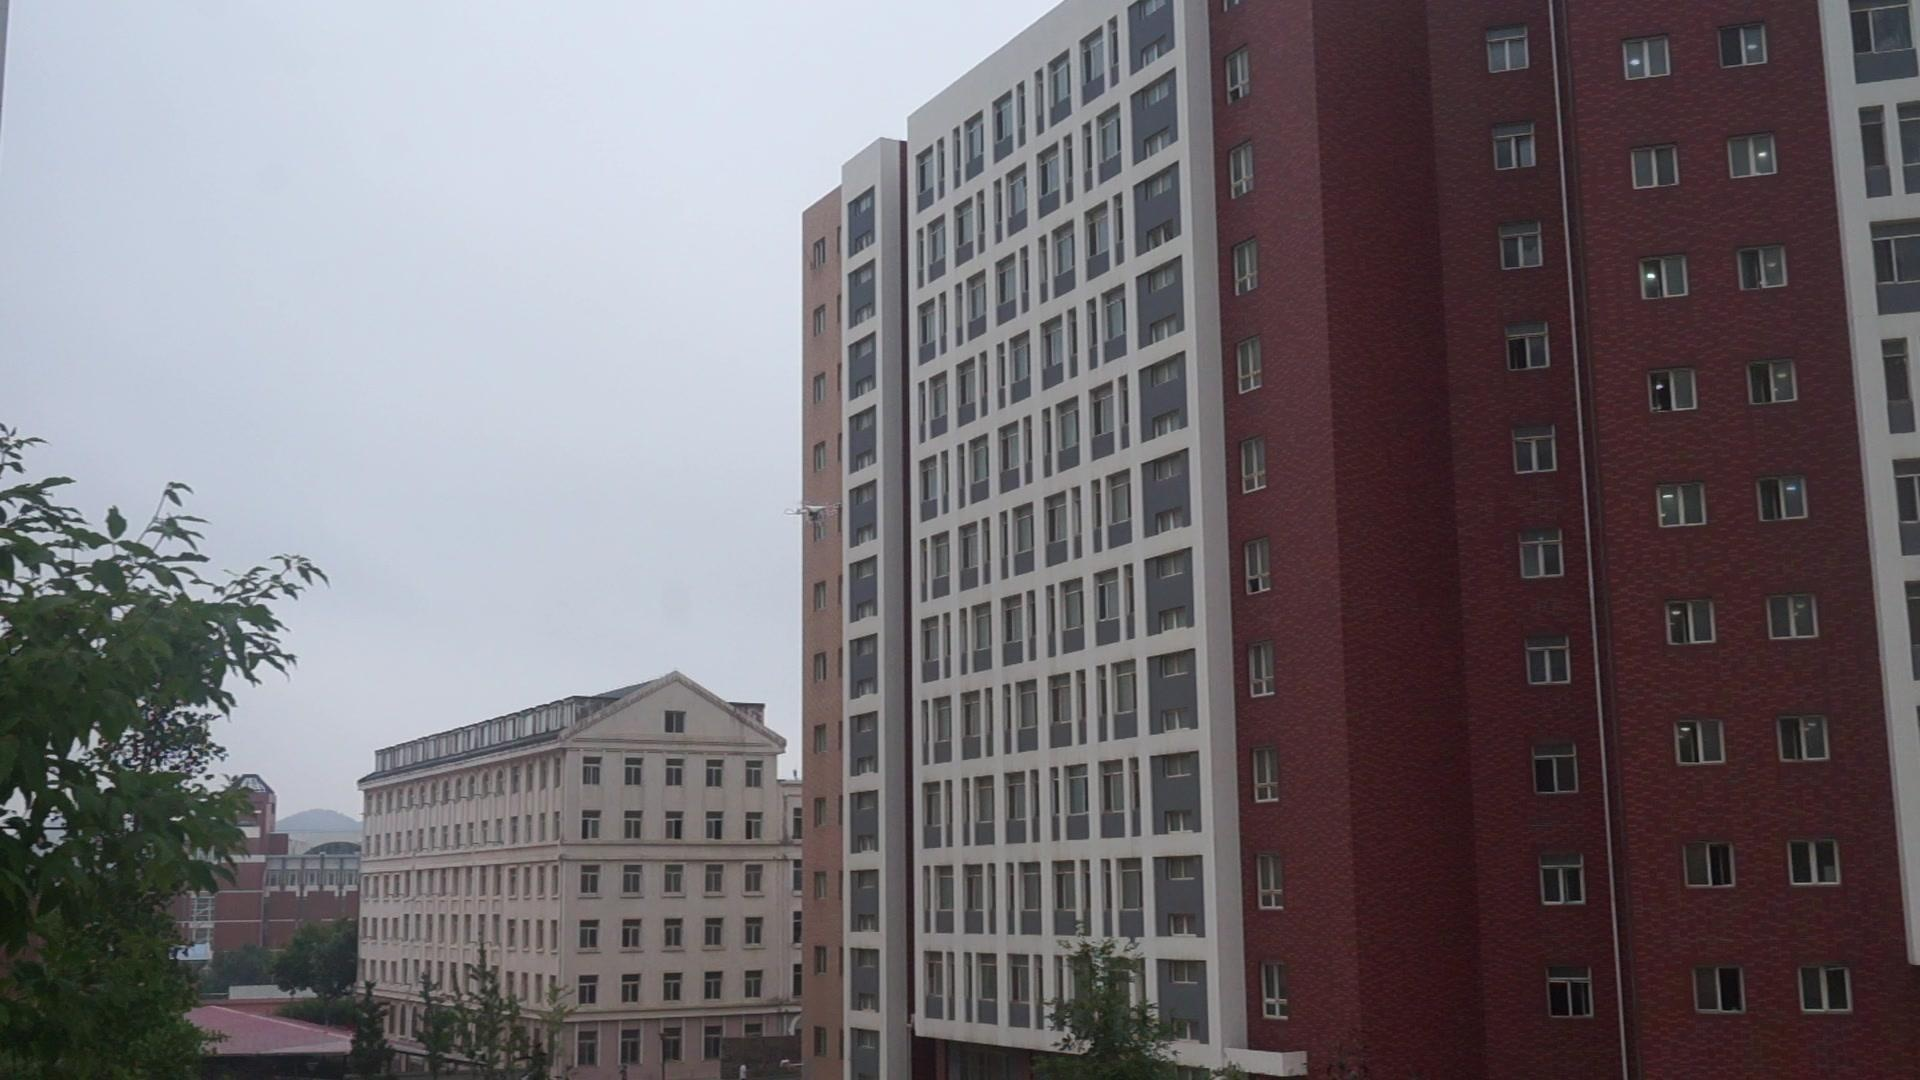UAV: (785, 502, 840, 527)
